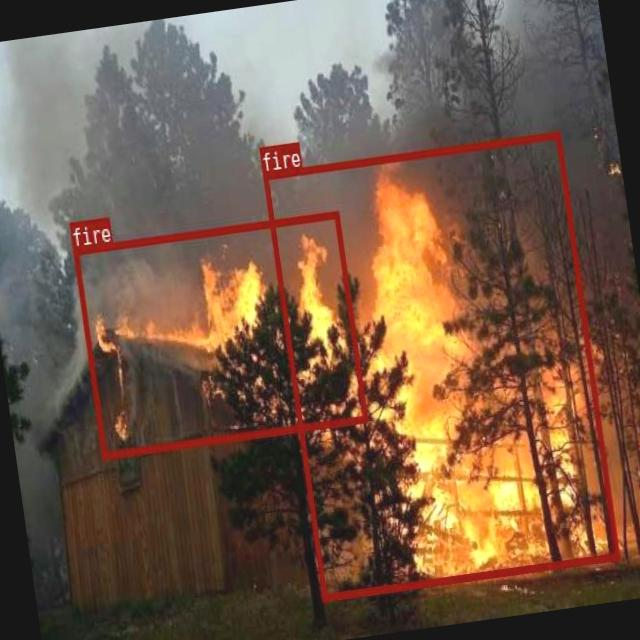fire: (262, 130, 620, 600), (72, 210, 367, 458)
